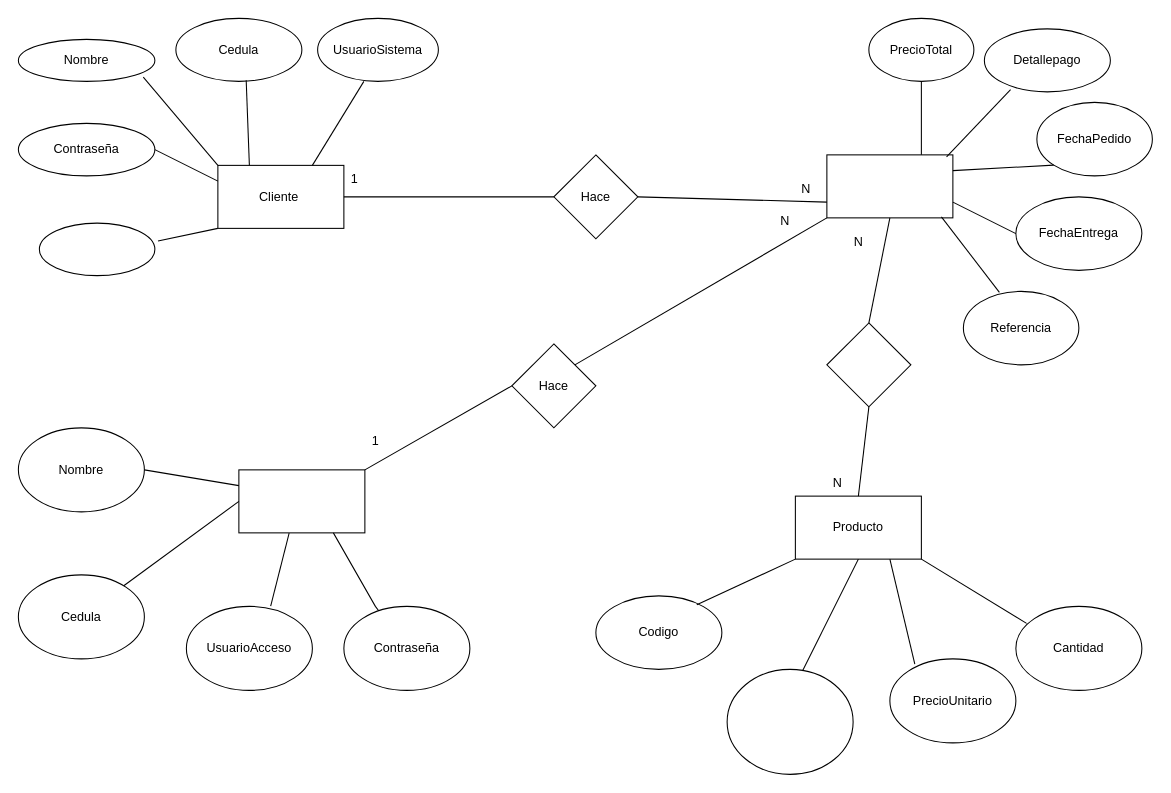
The diagram is 1171 pixels wide and 793 high, and some of its shapes have lost their labels. The centre of each missing label's shape, as x and y in pixels:
Direccion: (x=96, y=249)
Empleado: (x=301, y=501)
Pedido: (x=889, y=186)
Tiene: (x=868, y=364)
TipoProducto: (x=789, y=721)
